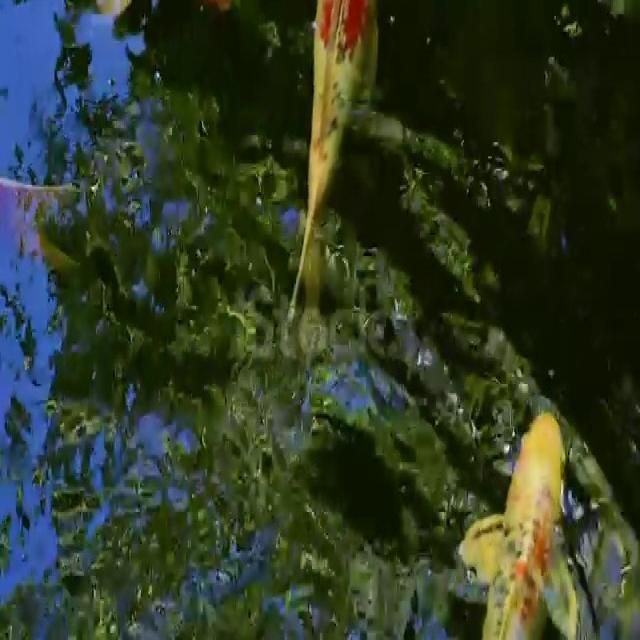fish: (279, 0, 411, 315), (463, 374, 581, 640)
